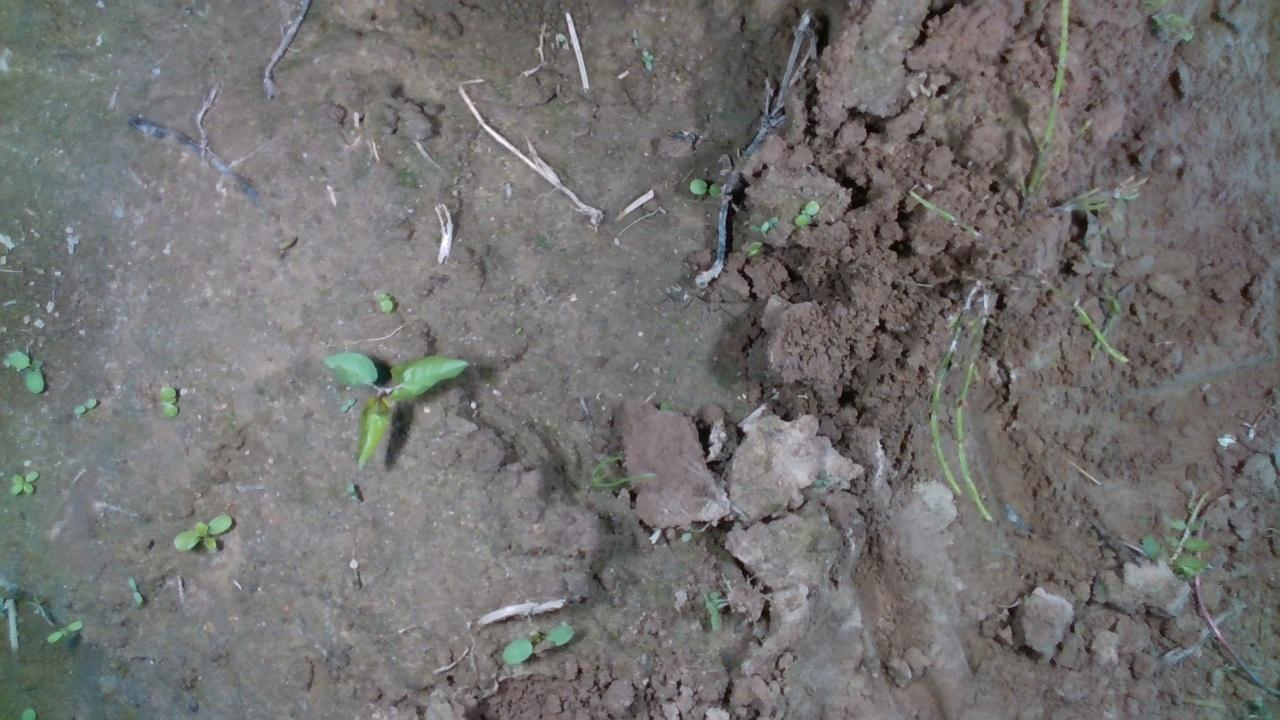weed: (500, 621, 574, 665), (169, 511, 231, 553), (5, 349, 44, 395), (43, 617, 83, 643), (7, 467, 39, 496), (156, 385, 179, 421), (792, 197, 820, 226), (688, 176, 724, 196), (125, 575, 143, 606), (71, 395, 98, 415)
